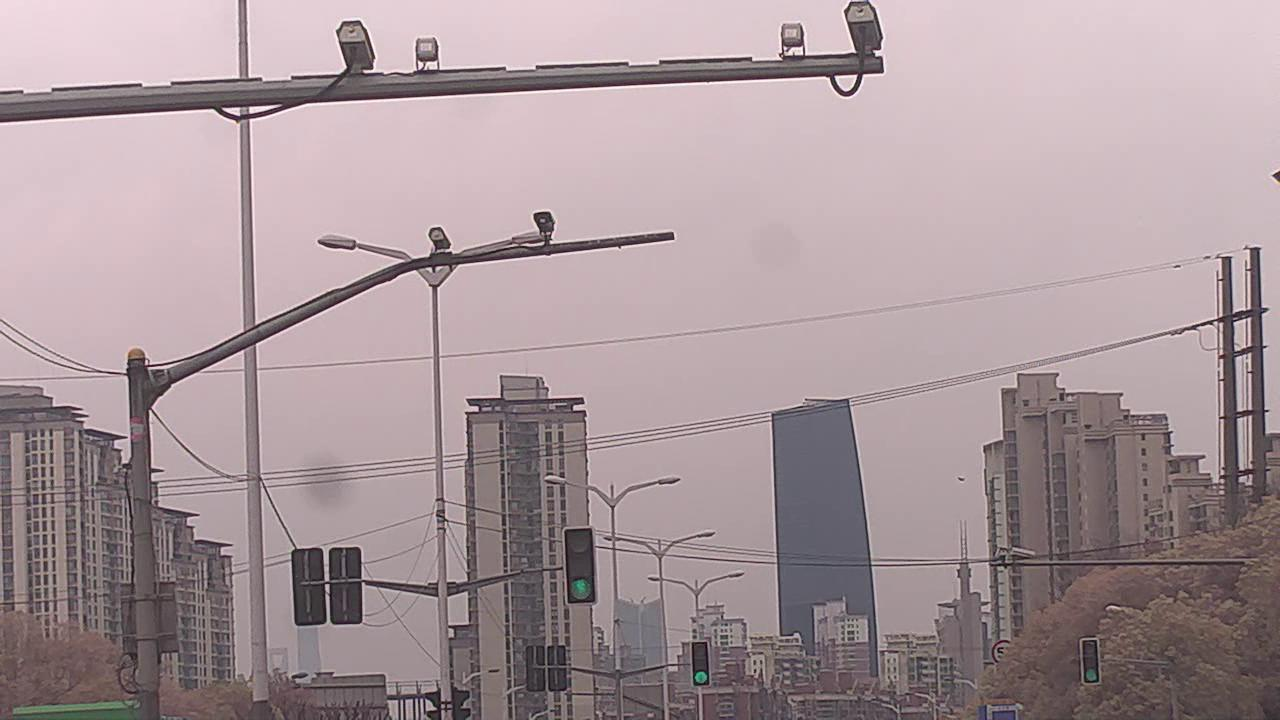traffic_light: (566, 527, 597, 605), (689, 640, 712, 685), (1083, 638, 1102, 684)
